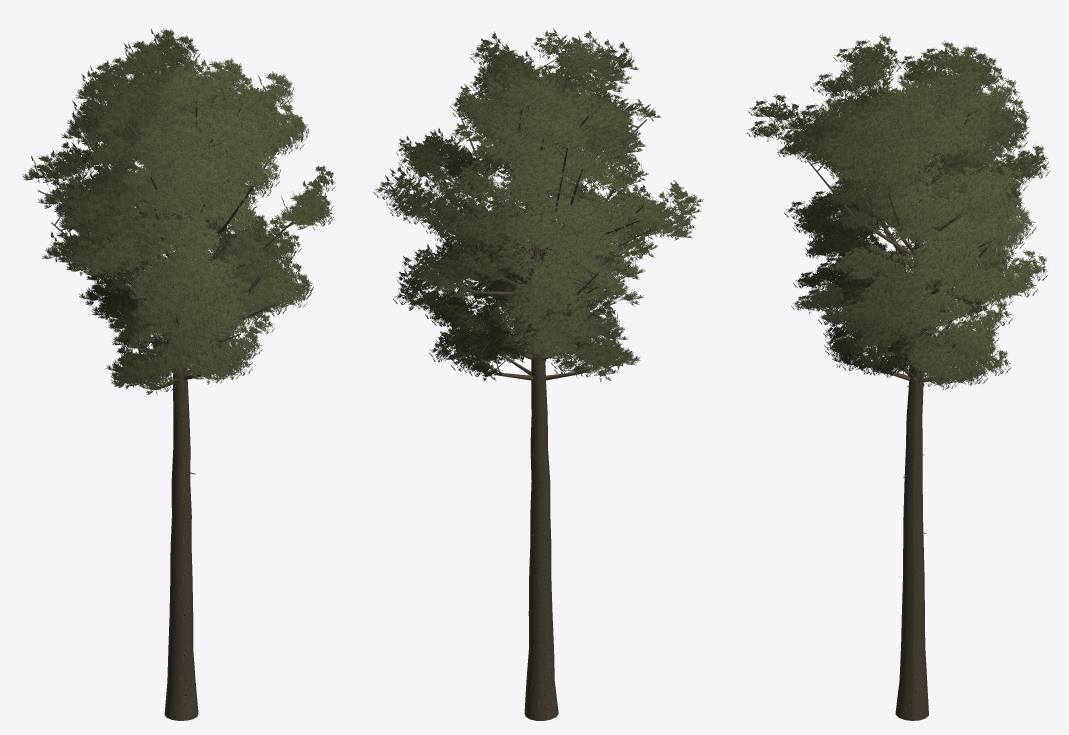
File: SM_Pine_01.gltf
3 views of the same model, side by side, from view 1: azimuth 30°, elevation 25°; view 2: azimuth 150°, elevation 25°; view 3: azimuth 270°, elevation 25° (orthographic).
Parts seen in each view (by area): view 1: SM_Pine_01; view 2: SM_Pine_01; view 3: SM_Pine_01.
Boxes of the visible parts, x1,y1,x2,y2 form: SM_Pine_01: (22,28,335,720); SM_Pine_01: (373,28,703,720); SM_Pine_01: (747,33,1050,720).
Size of the model in its own units: 8.28 by 19.12 by 8.
Materials: 2 (2 with a texture image).
